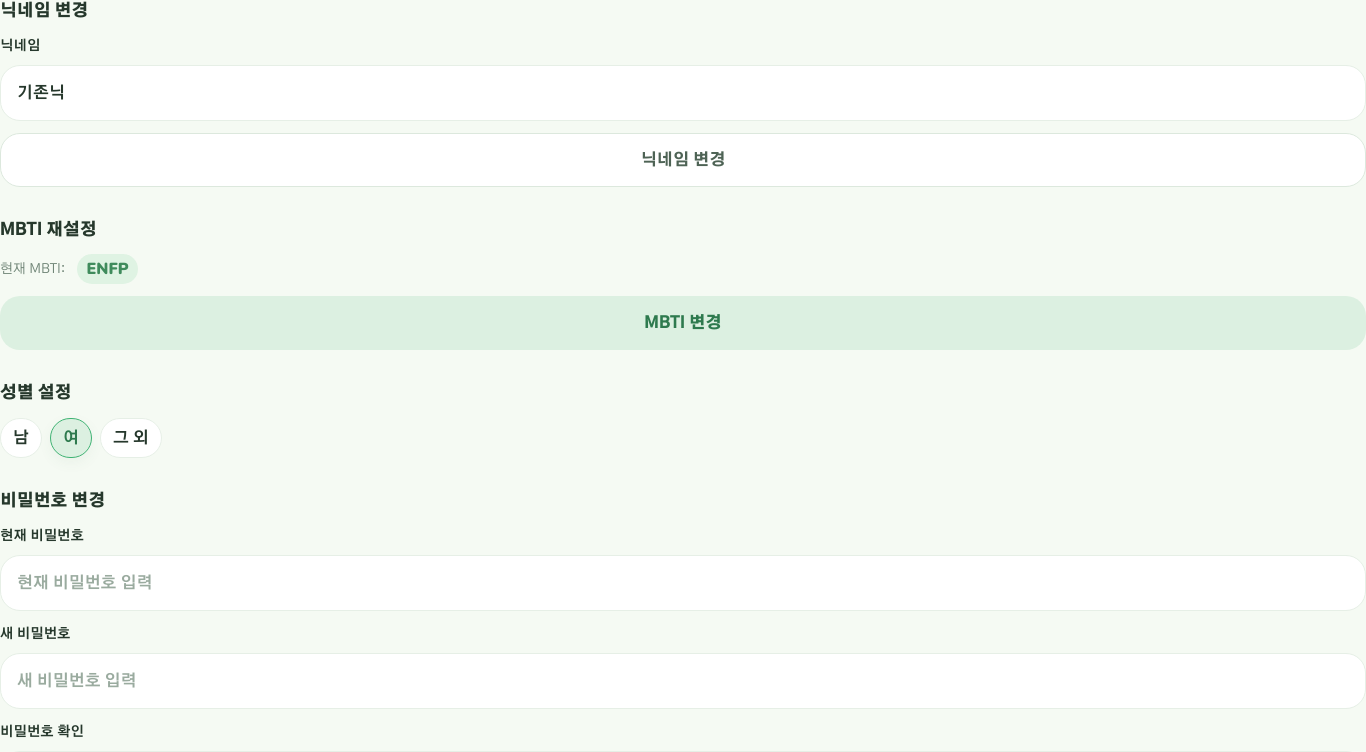
Test: SettingsForm › MBTI 저장 실패 시 error toast를 표시한다
Click the button "MBTI 변경" at (683,324), box [0, 296, 1365, 350]
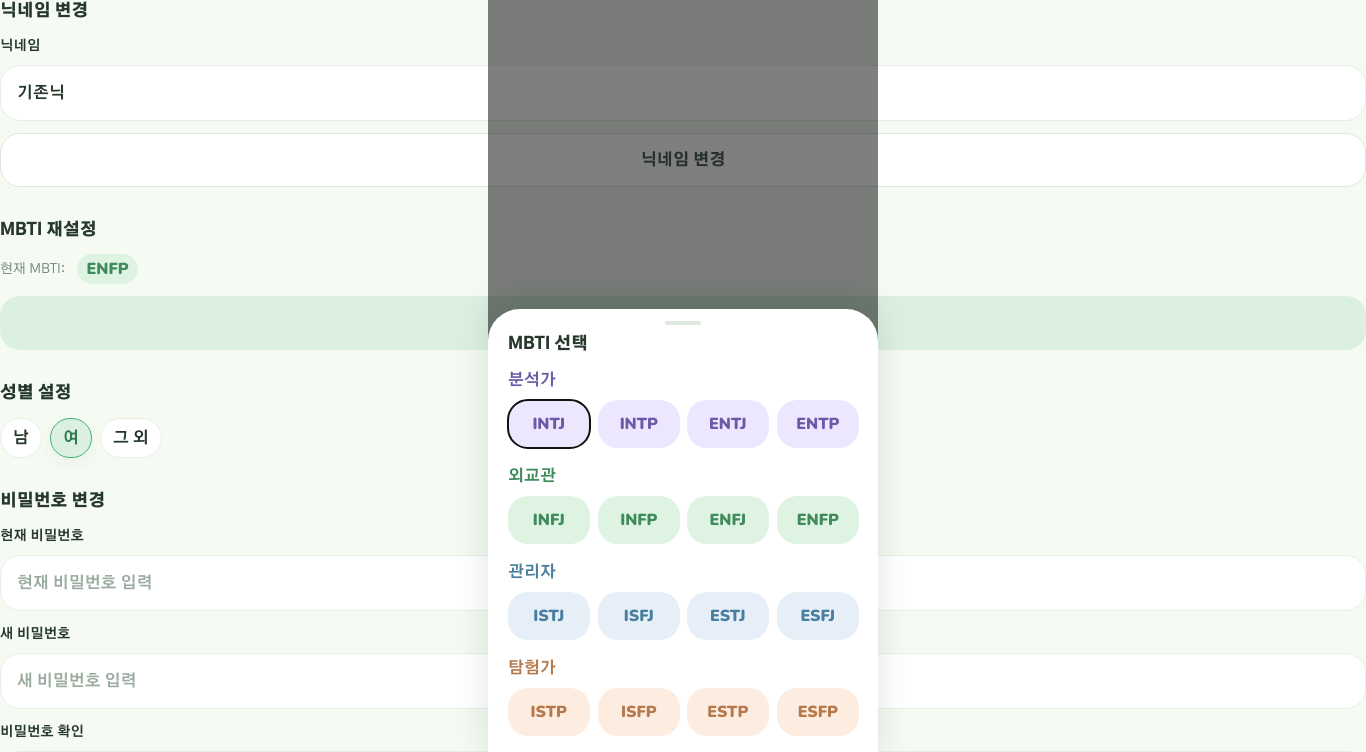
Click the button "INTJ" at (549,424), box [508, 400, 590, 448]
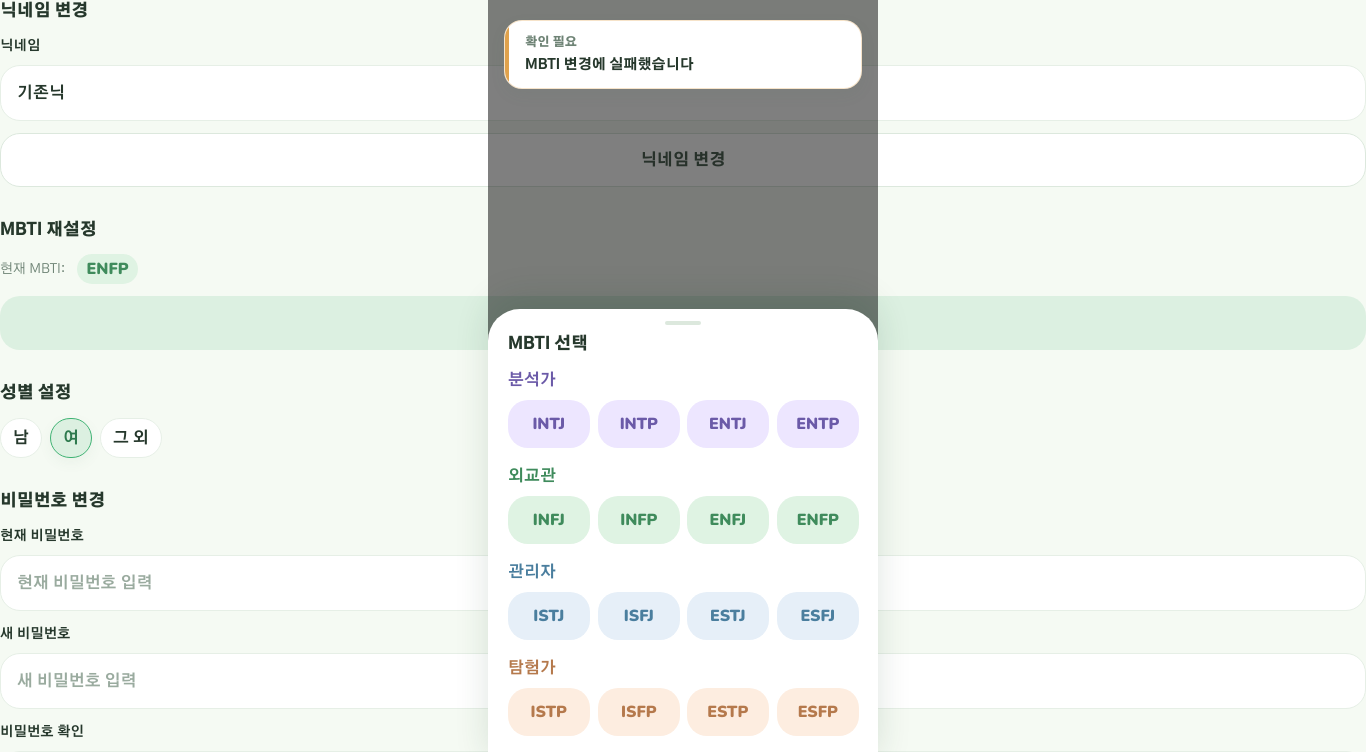
Expected: the text "MBTI 변경에 실패했습니다" is shown, [525, 58, 694, 72]
